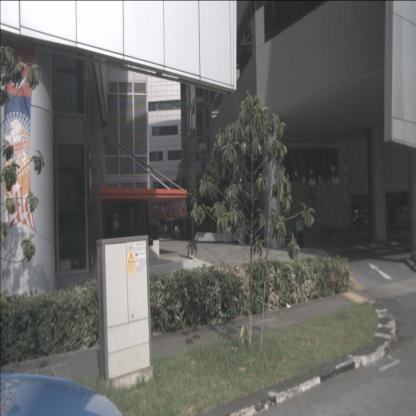human-pedestrian-adult: (295, 215, 301, 250), (300, 218, 304, 247), (173, 224, 179, 240), (164, 223, 169, 239), (177, 222, 180, 240)
